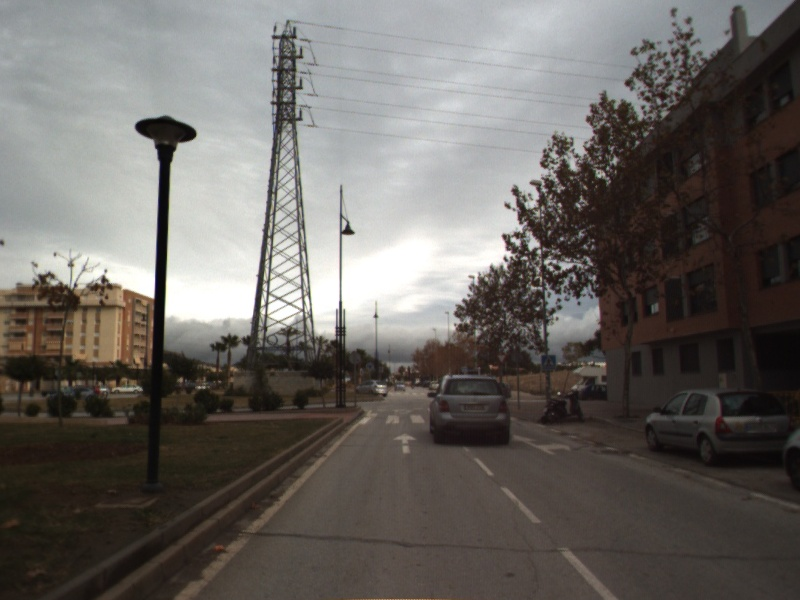STRAIGHT: (391, 431, 419, 455)
STRAIGHT_RIGHT: (510, 432, 573, 456)
